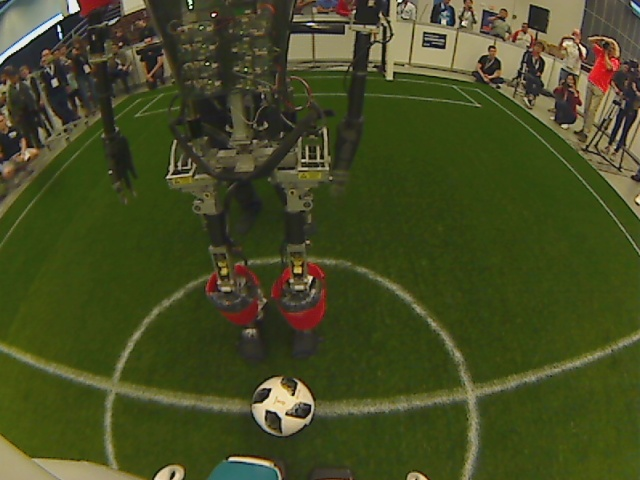ball: (250, 371, 320, 440)
